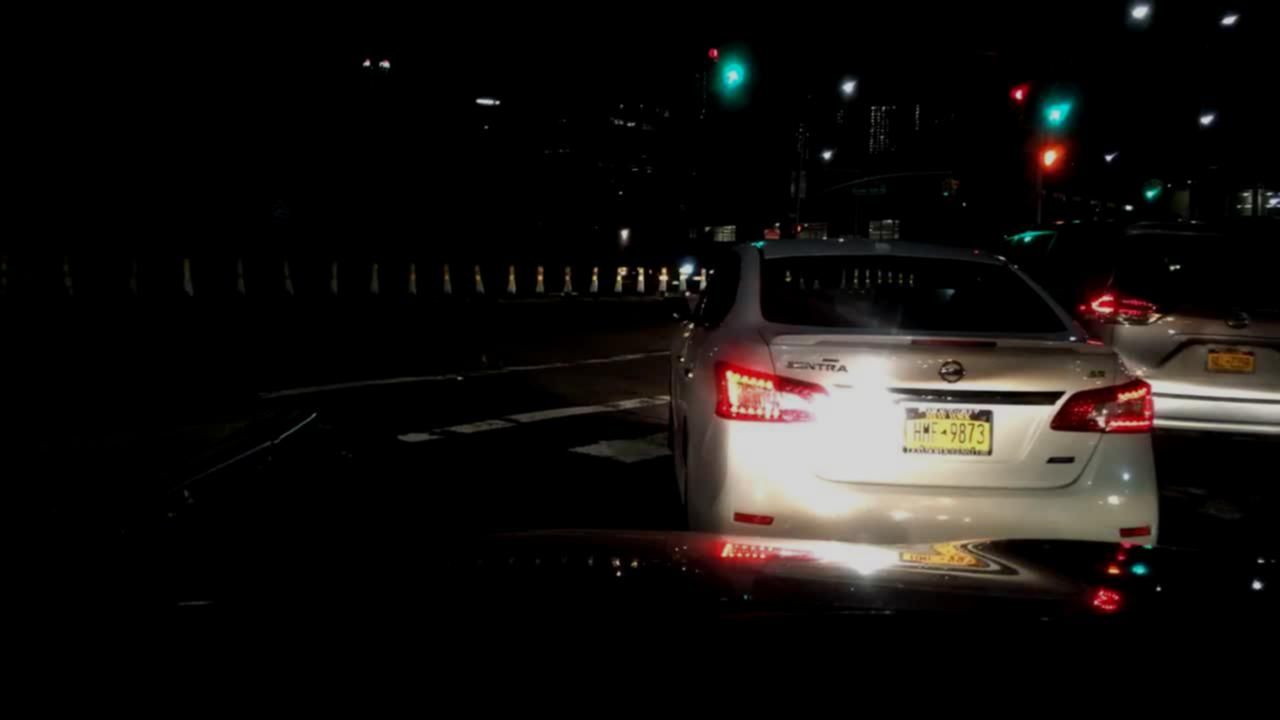Nissan: (939, 354, 976, 394)
